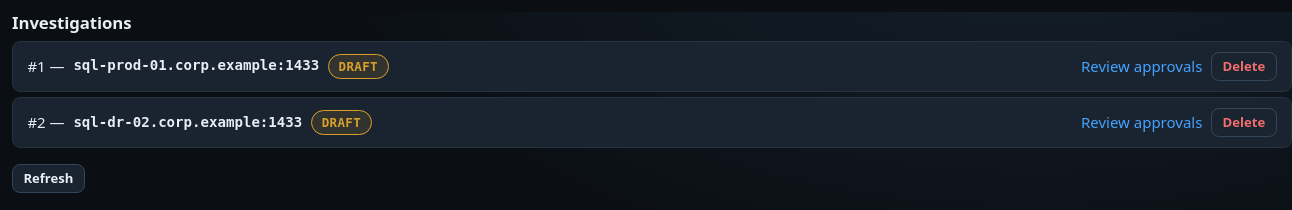
InvestigationList › deletes a row after confirmation and keeps the rest (#39)
Check: the text "sql-prod-01.corp.example:1433" is shown, box [73,55,319,77]
Click the button "Delete" in the row of "sql-prod-01.corp.example:1433" at [1244, 66], box [1211,52,1277,81]
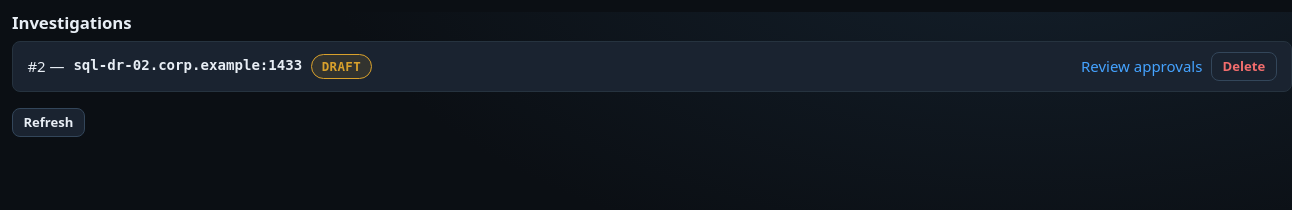
Check: the text "sql-dr-02.corp.example:1433" is shown, box [73,55,302,77]
Check: the text "sql-prod-01.corp.example:1433" is gone
